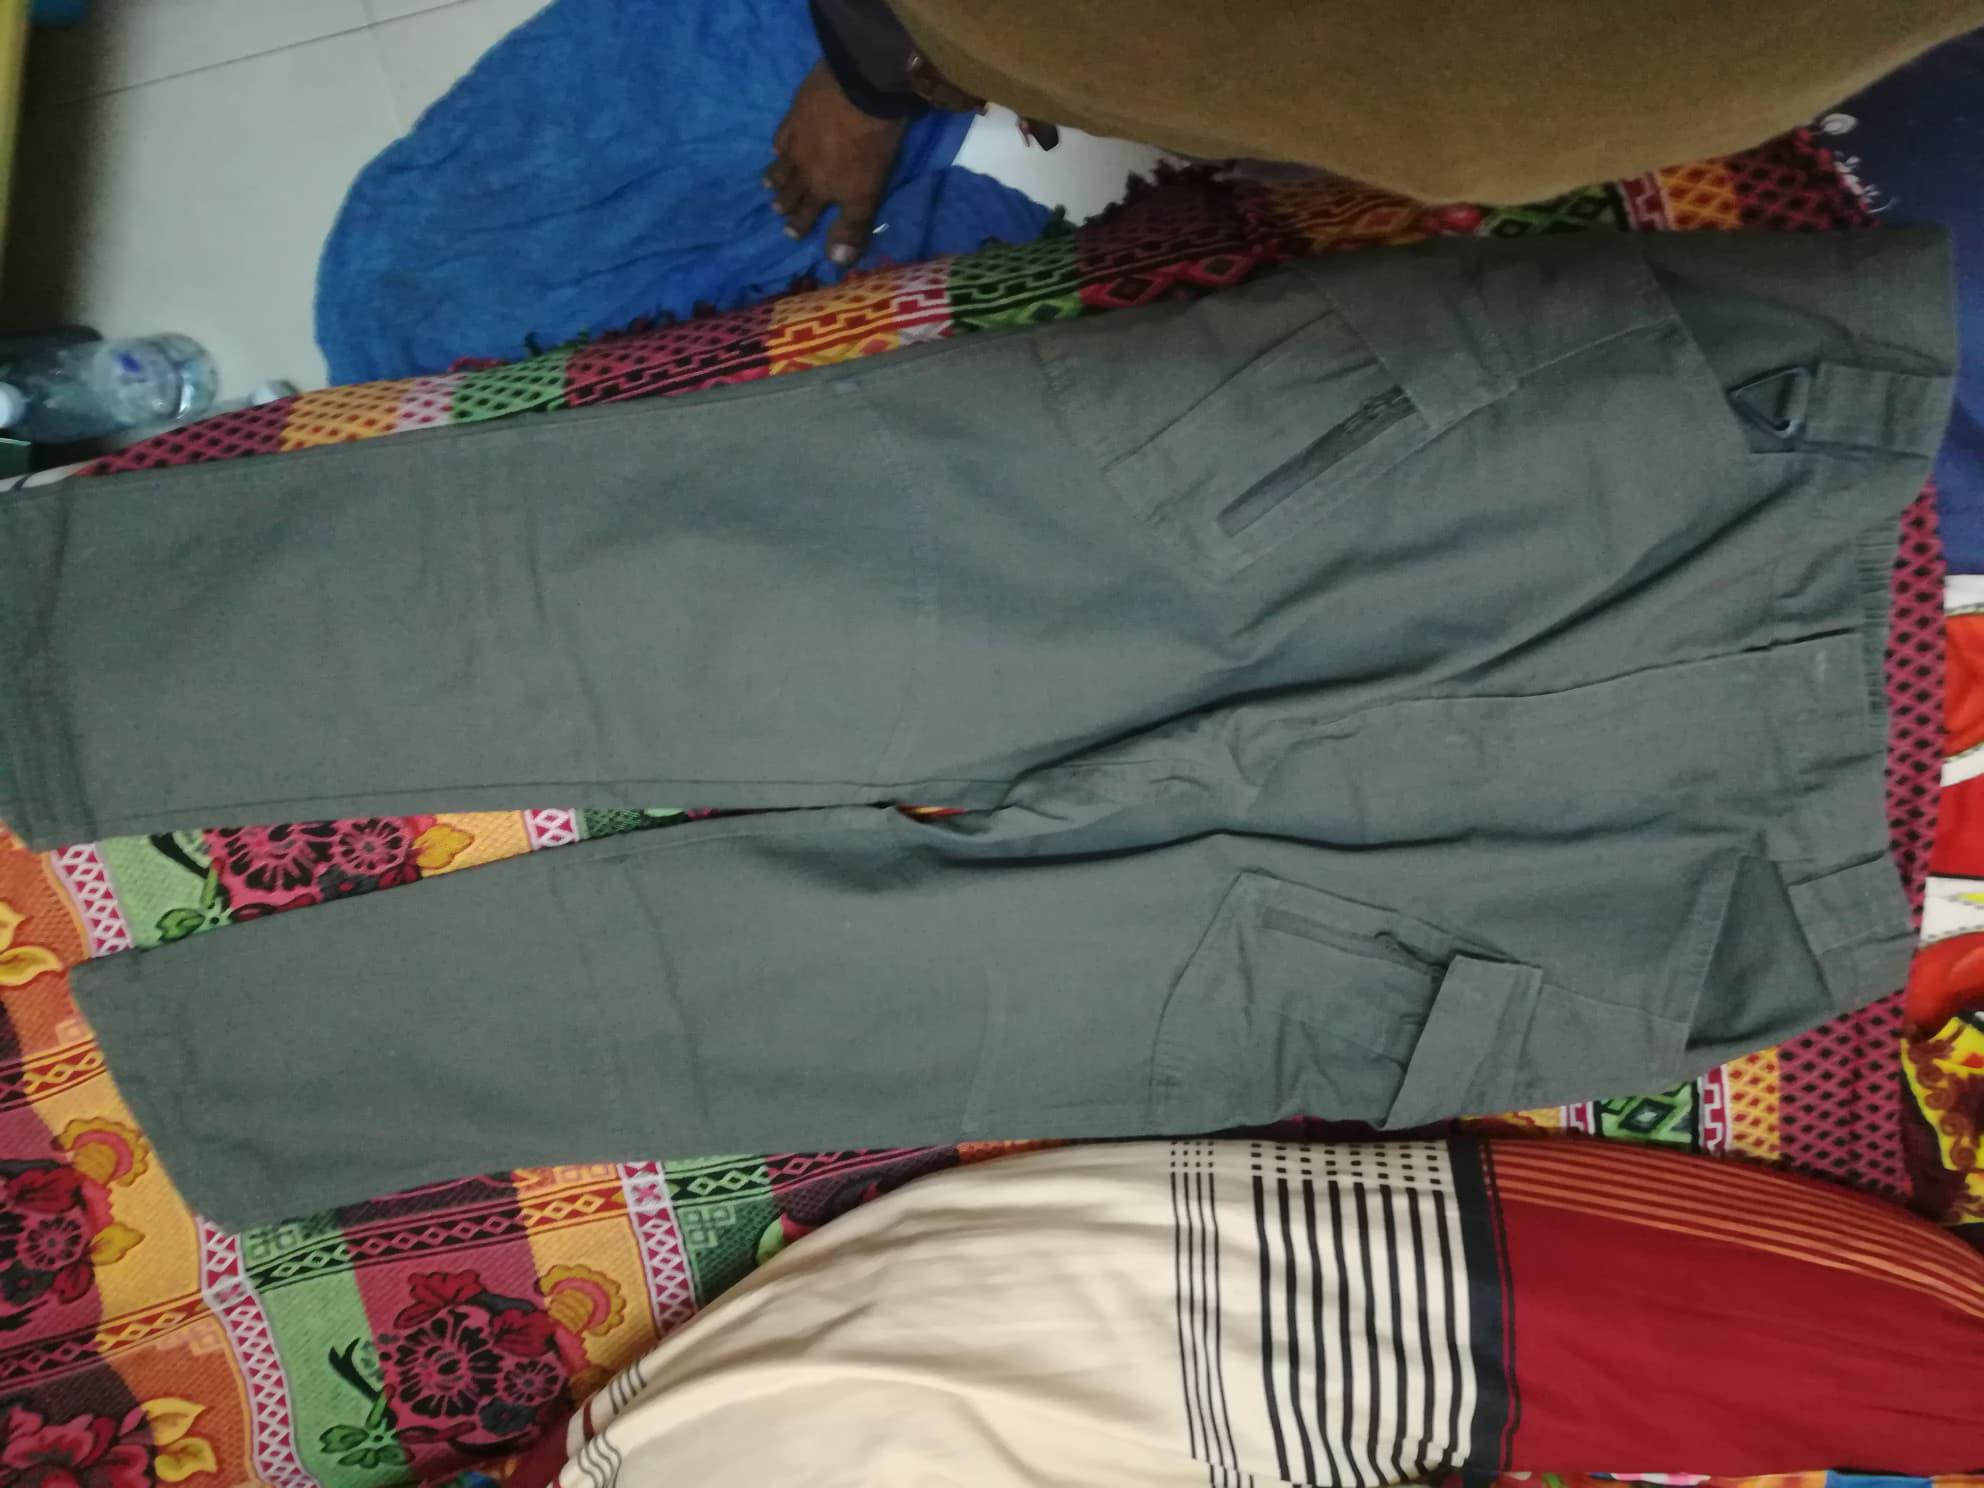pants: (14, 220, 1942, 1241)
